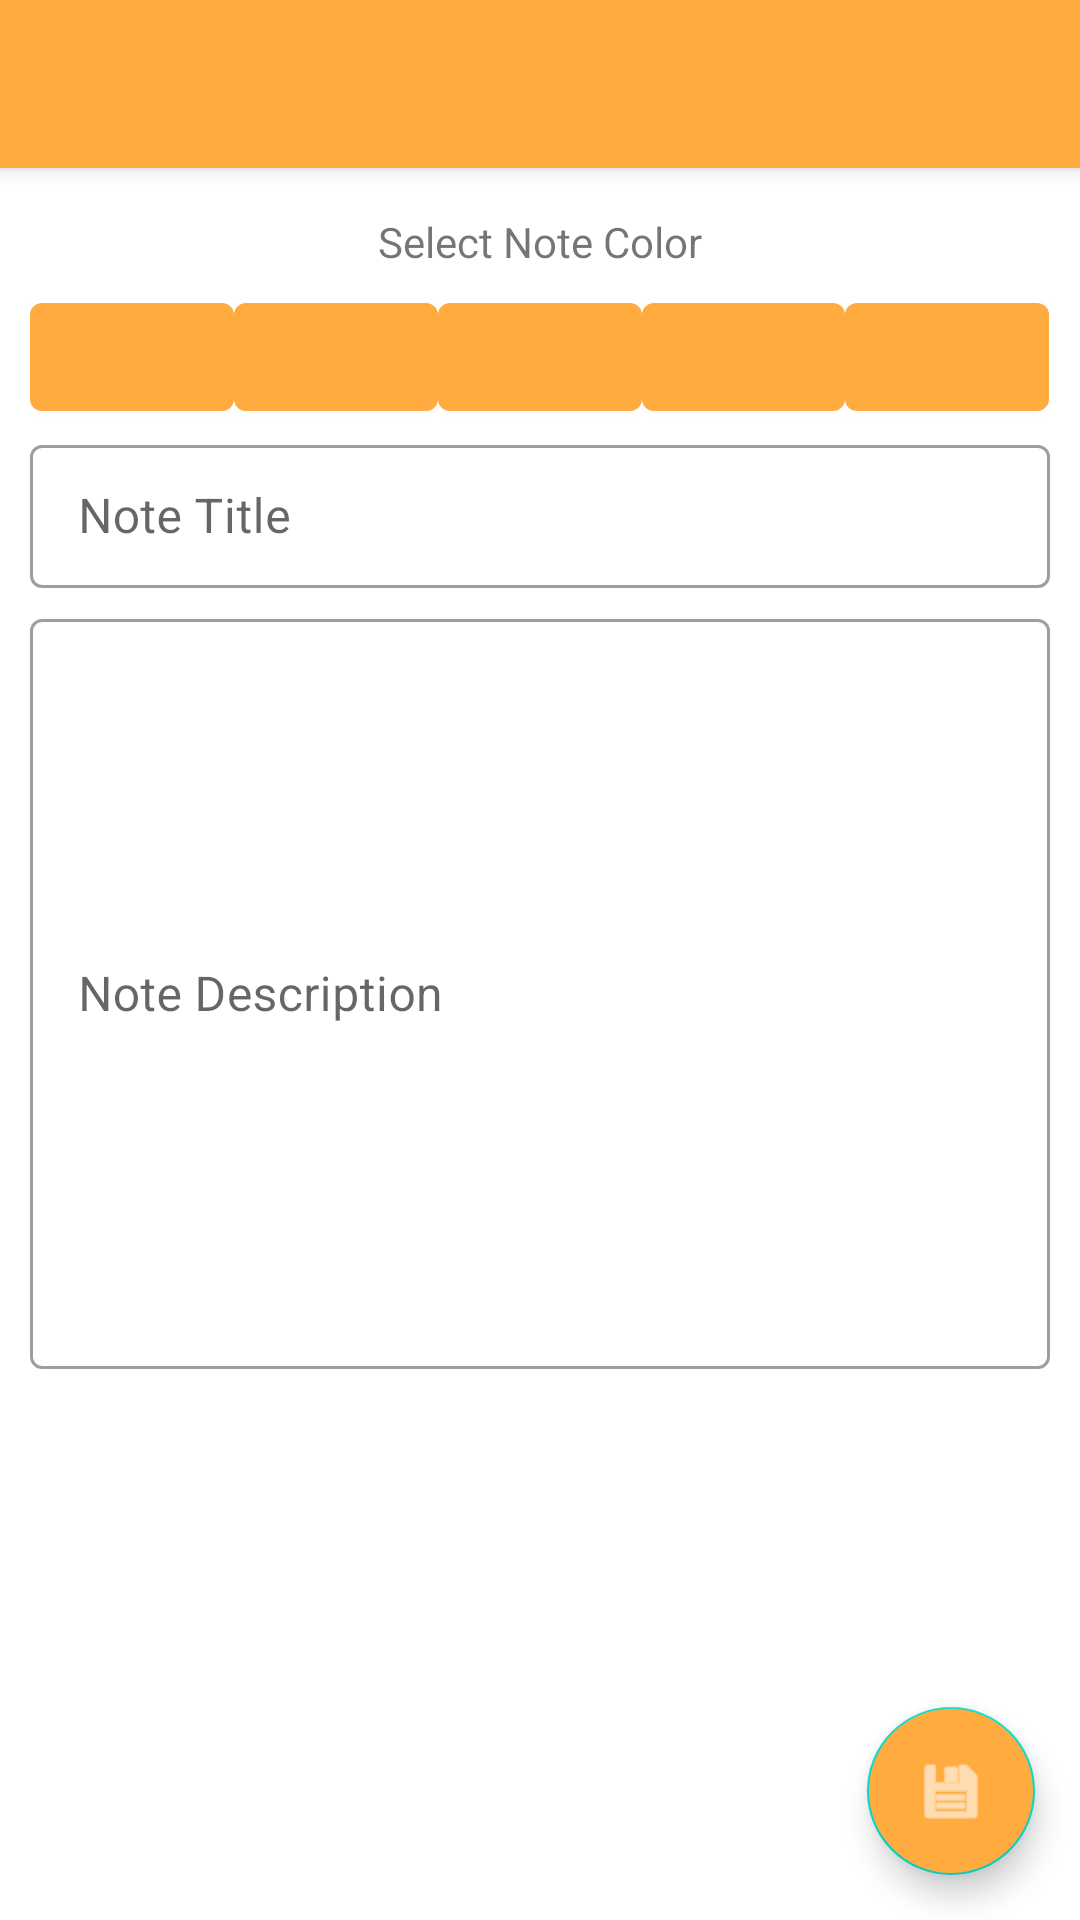

Icons on this 1080×1920 Android screen, each with its box as {"left": x1, "top": y1, "right": x2, "bottom": y2}:
save: {"left": 867, "top": 1707, "right": 1035, "bottom": 1875}
